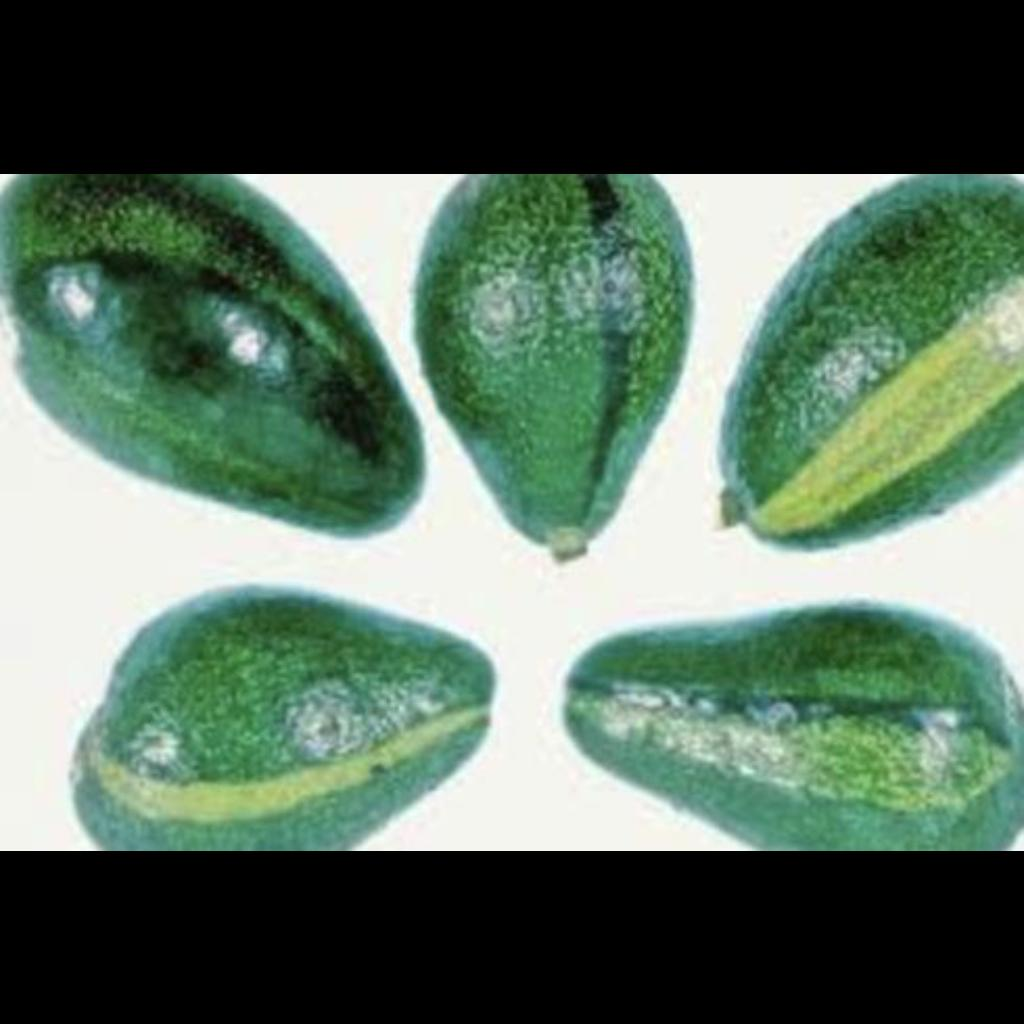sunblotch: (0, 174, 424, 486), (518, 604, 1024, 850), (34, 592, 524, 838), (410, 174, 712, 572), (744, 296, 1024, 530)
